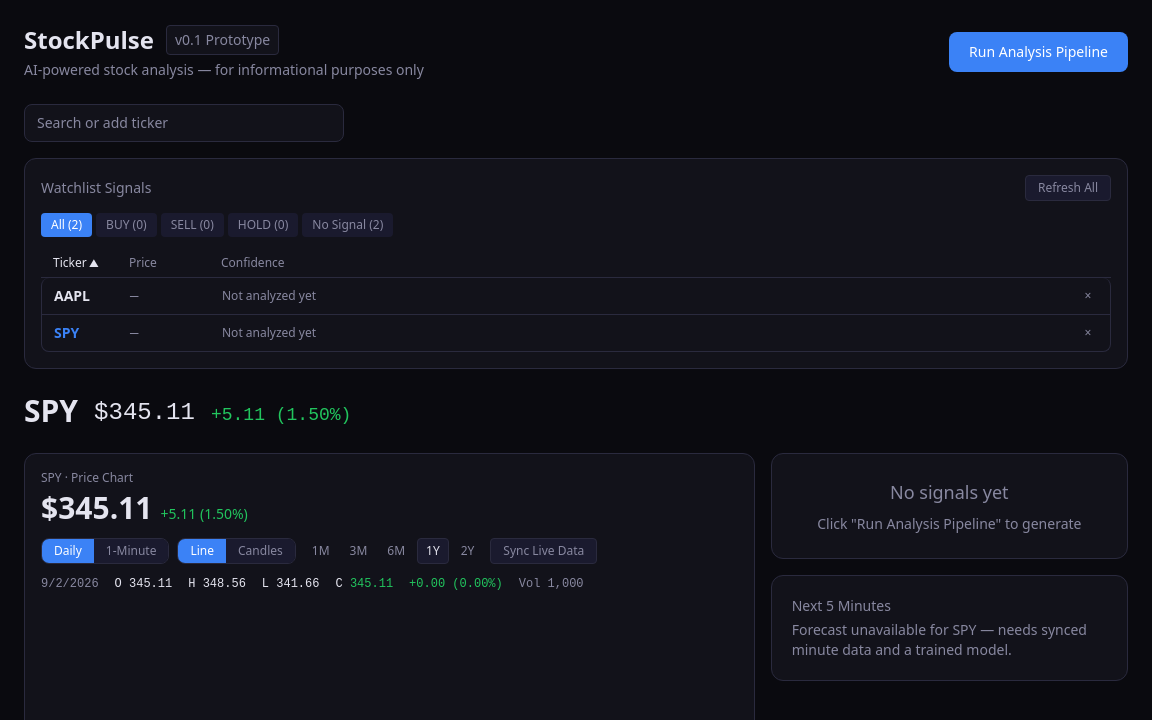
Scenario: Dashboard › clears a stale sync confirmation message when switching tickers
What coordinates should you click on to do the following:
click the button "Sync Live Data"
I would click on:
 (544, 551)
Its box is [490, 538, 597, 564].
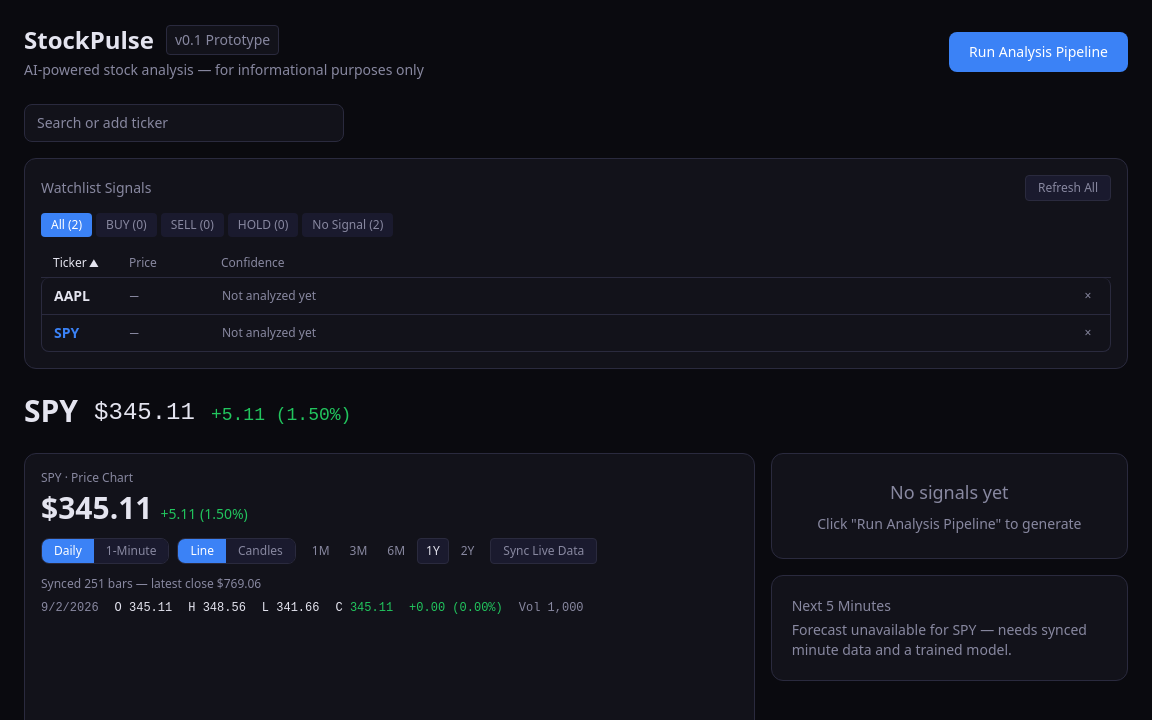
Result: the text "Synced 251 bars — latest close $769.06" is shown at [41, 575, 261, 592]
What coordinates should you click on to do the following:
click the button "AAPL"
I would click on:
 (86, 296)
Its box is [54, 286, 118, 306].
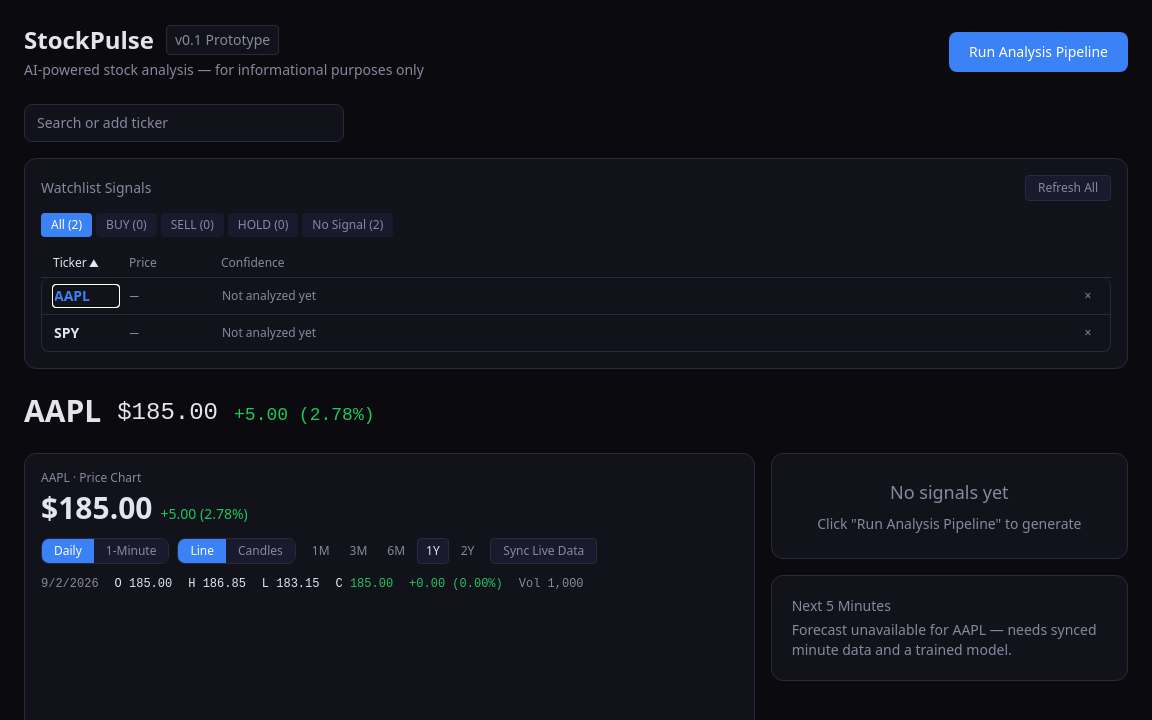
Result: the text "Synced 251 bars" is gone
